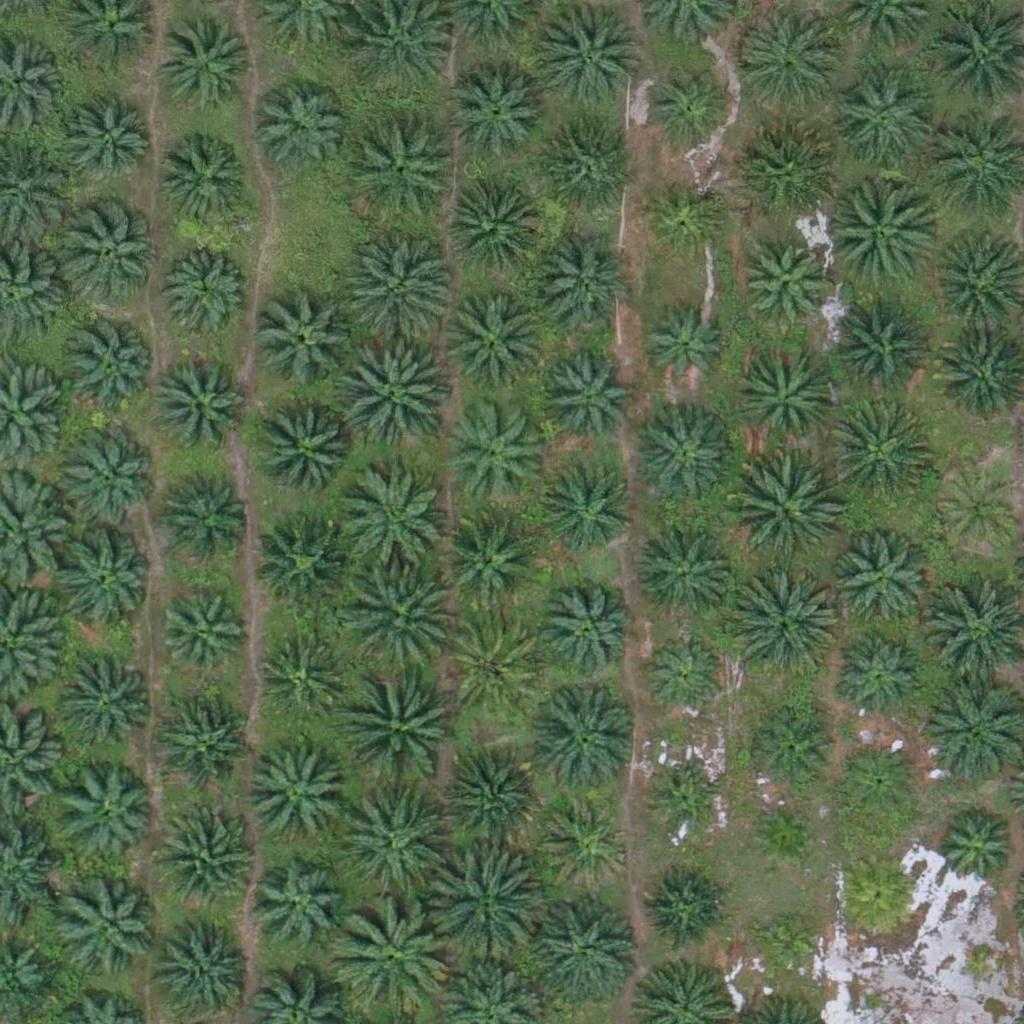Kelapa_Sawit: (346, 120, 459, 234), (333, 788, 446, 902), (342, 560, 455, 674), (339, 232, 452, 345), (817, 174, 930, 287), (726, 567, 839, 680), (727, 455, 840, 568), (336, 468, 449, 581), (342, 339, 455, 452), (344, 663, 456, 777), (533, 1, 645, 114), (737, 1, 849, 114), (335, 902, 447, 1015), (425, 850, 537, 963), (528, 891, 640, 1004), (825, 397, 937, 510), (527, 681, 639, 794), (154, 18, 254, 119), (254, 289, 354, 390), (249, 82, 349, 183), (450, 177, 550, 278), (450, 60, 550, 161), (534, 124, 634, 225), (539, 233, 639, 334), (749, 120, 849, 221), (831, 67, 931, 168), (822, 296, 922, 397), (54, 761, 154, 862), (153, 805, 253, 906), (250, 856, 350, 957), (830, 529, 930, 630), (734, 348, 834, 449), (632, 408, 732, 509), (634, 521, 734, 622), (536, 580, 636, 681), (442, 398, 542, 499), (439, 508, 539, 609), (155, 693, 255, 794), (54, 526, 154, 627), (52, 652, 152, 753), (65, 200, 165, 300), (158, 132, 258, 232), (57, 321, 157, 421), (446, 291, 546, 391), (59, 880, 159, 980), (160, 916, 260, 1016), (244, 747, 344, 847), (440, 751, 540, 851), (445, 617, 545, 717), (256, 399, 356, 499), (256, 513, 356, 613), (159, 464, 259, 564), (151, 355, 251, 455), (60, 428, 160, 528), (834, 849, 922, 938), (161, 242, 249, 330), (643, 172, 731, 260), (643, 59, 731, 147), (738, 240, 826, 328), (834, 736, 922, 824), (935, 467, 1023, 555), (639, 634, 727, 722), (542, 466, 630, 554), (541, 357, 629, 445), (255, 632, 343, 720), (157, 594, 245, 682), (836, 632, 923, 721), (61, 98, 148, 186), (638, 304, 725, 392), (542, 799, 629, 887), (641, 863, 728, 951), (930, 804, 1017, 892), (745, 706, 832, 794), (745, 798, 820, 874), (749, 906, 824, 982), (651, 769, 726, 844)
